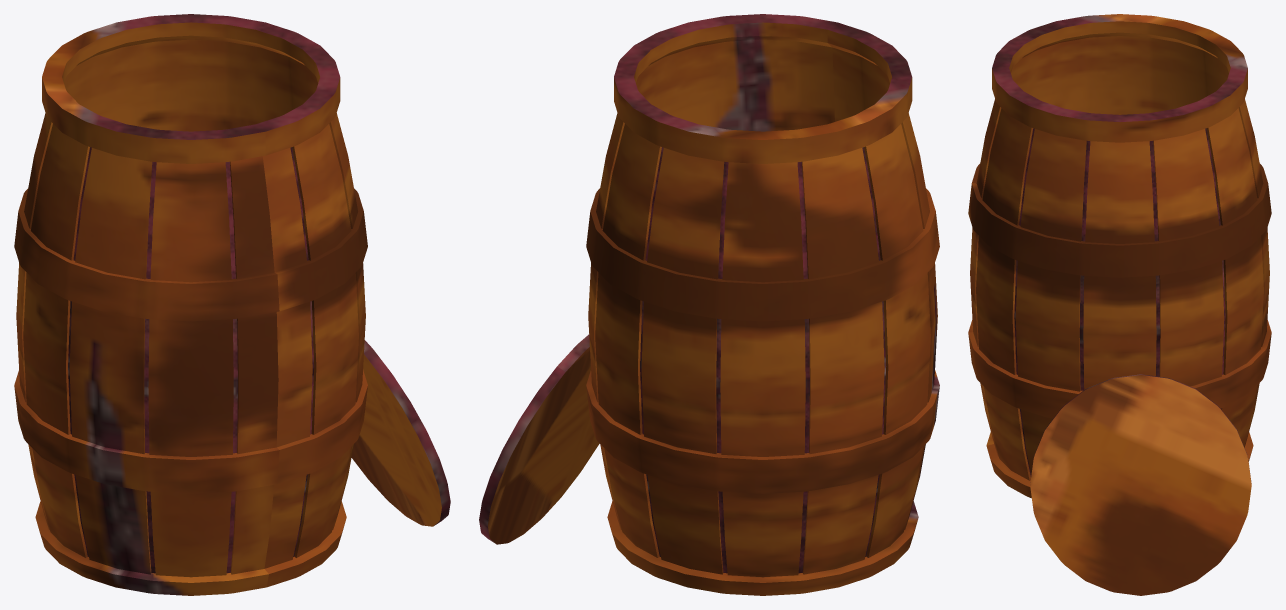
Rendered from fruit barrel_11.fbx.
3 renders of one model, left to right at view 1: azimuth 30°, elevation 25°; view 2: azimuth 150°, elevation 25°; view 3: azimuth 270°, elevation 25°, orthographic. The views are drawn at different scales.
Parts seen in each view (by area): view 1: Circle.020, Circle.022; view 2: Circle.020, Circle.022; view 3: Circle.020, Circle.022.
Boxes of the visible parts, x1,y1,x2,y2 form: Circle.020: (14,14,367,595); Circle.022: (351,340,450,526); Circle.020: (586,14,939,595); Circle.022: (479,334,599,544); Circle.020: (968,14,1271,498); Circle.022: (1030,374,1251,595).
Bounding box in the file's own units: 45.26 × 56.02 × 35.65.
